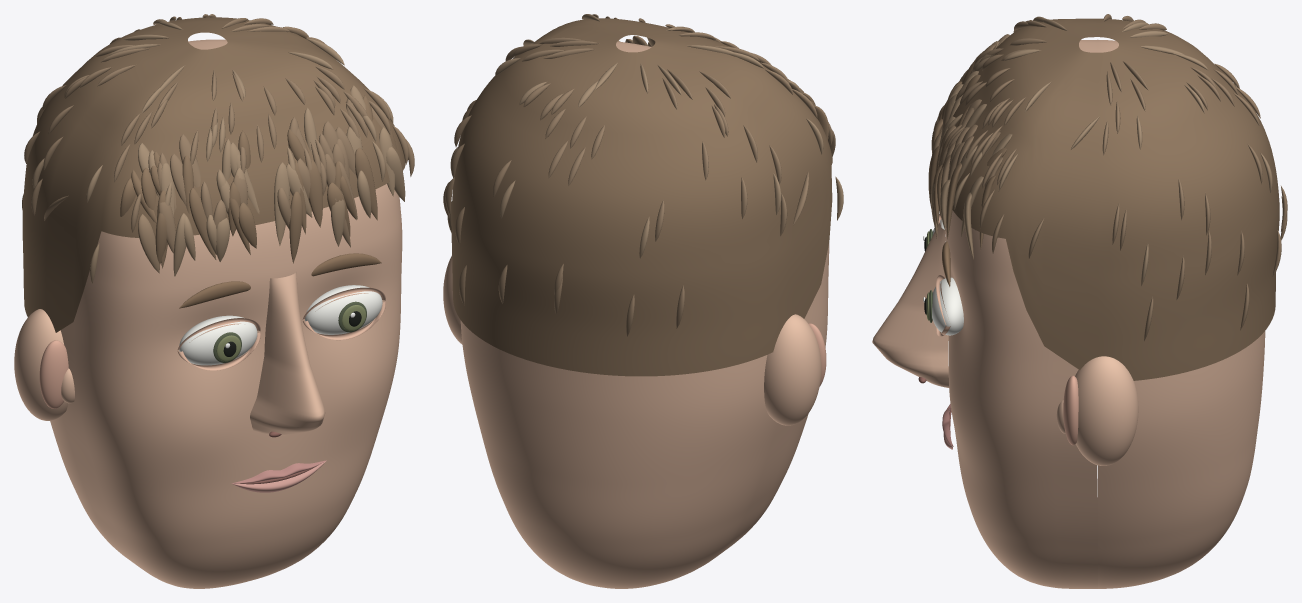
The model's file is avatar.glb.
3 renders of one model, left to right at view 1: azimuth 30°, elevation 25°; view 2: azimuth 150°, elevation 25°; view 3: azimuth 270°, elevation 25°, orthographic.
Parts seen in each view (by area): view 1: Head, HairCap, Nose, Ear.L, Eye.L, Eye.R, EarFold.L, Brow.L, Brow.R, LowerLip, Fringe.06, Fringe.17 (+8 smaller); view 2: HairCap, Head, Ear.L, Ear.R; view 3: HairCap, Head, Nose, Ear.R, Eye.R, EarFold.R.
Boxes of the visible parts, x1,y1,x2,y2 form: Head: (50,39,402,588); HairCap: (22,17,405,332); Nose: (250,272,325,435); Ear.L: (14,309,67,420); Eye.L: (179,315,257,365); Eye.R: (305,285,382,334); EarFold.L: (39,340,68,408); Brow.L: (179,281,250,308); Brow.R: (311,253,381,276); LowerLip: (232,460,326,492); Fringe.06: (289,191,302,263); Fringe.17: (274,162,289,245); HairCap: (451,18,832,376); Head: (460,41,829,588); Ear.L: (764,314,821,425); Ear.R: (443,255,462,344); HairCap: (952,18,1279,380); Head: (945,39,1265,588); Nose: (872,221,948,387); Ear.R: (1075,356,1138,465); Eye.R: (932,277,963,335); EarFold.R: (1063,375,1078,445).
Bounding box in the file's own units: 1.59 × 2.18 × 1.54.
